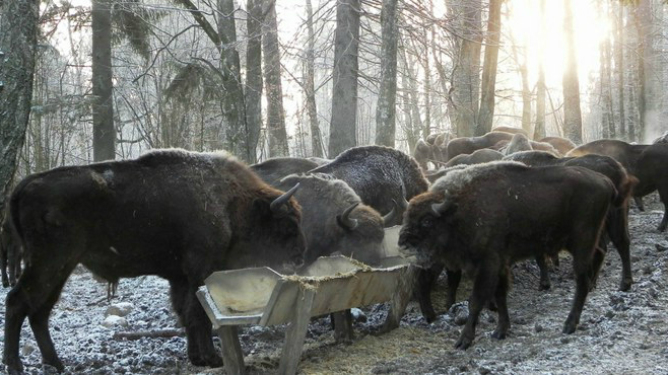zubr: (5, 139, 311, 375), (383, 130, 646, 352)
